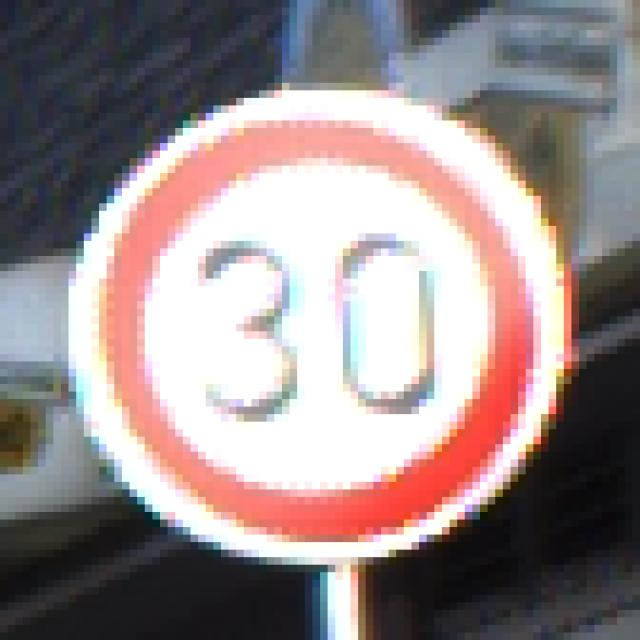Speed Limit -30-: (49, 56, 583, 584)
